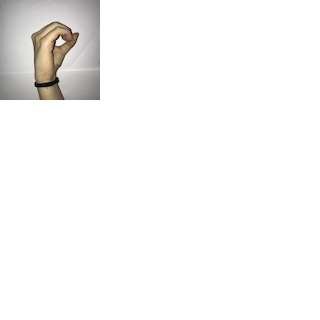rock: (24, 16, 80, 78)
